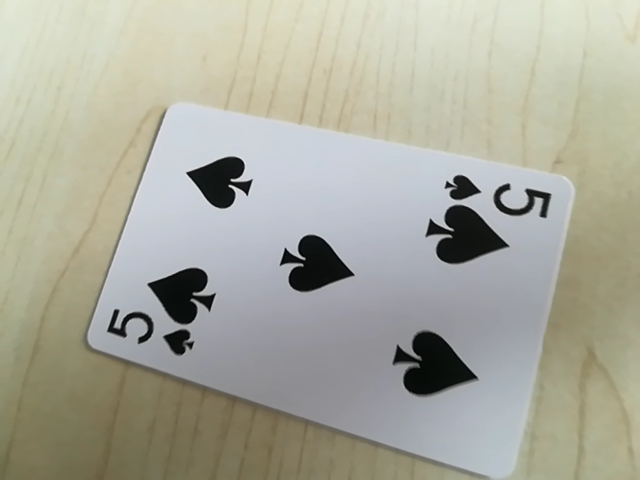ht 5: (98, 309, 203, 361), (438, 170, 555, 215)
